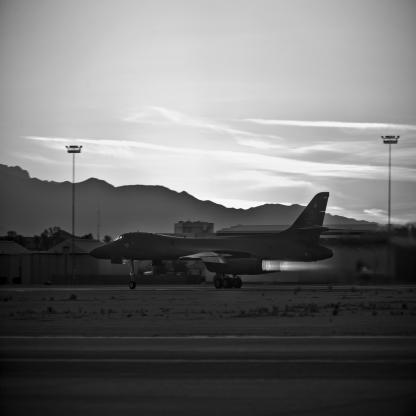B1: (89, 192, 355, 290)
